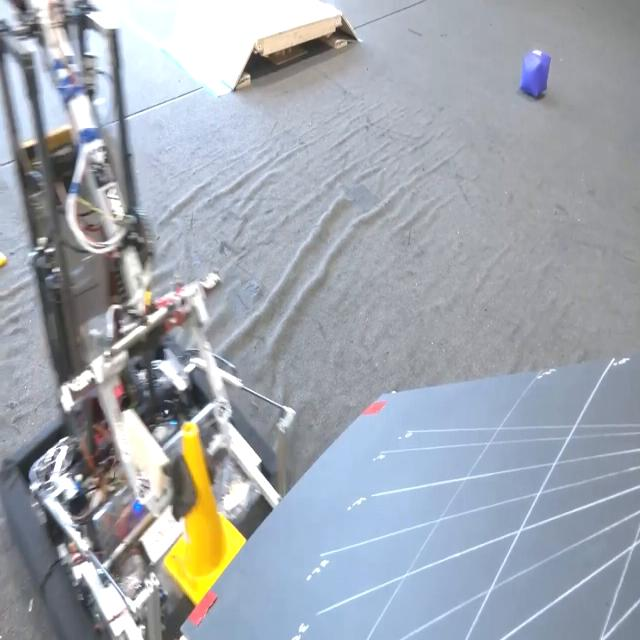frc_cone: (174, 421, 241, 601)
frc_cube: (519, 48, 556, 98)
